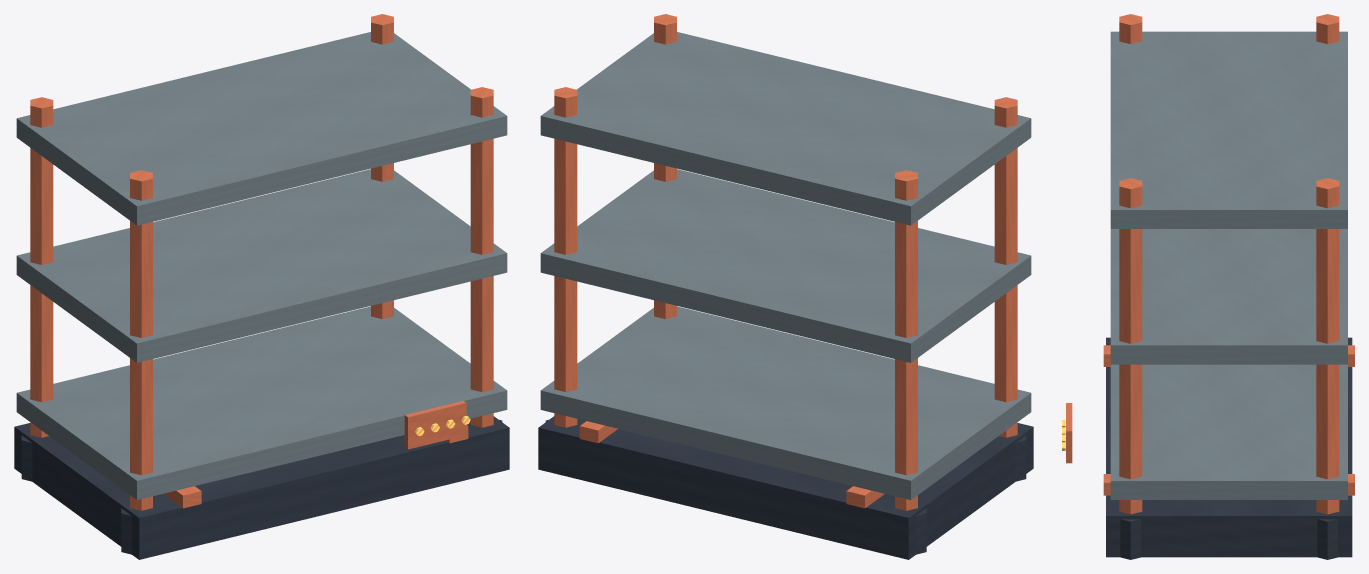
The model's file is atlas100-s025-a06.glb.
The picture shows the model from 3 angles, left to right: view 1: azimuth 30°, elevation 25°; view 2: azimuth 150°, elevation 25°; view 3: azimuth 270°, elevation 25°; orthographic projection.
Visible parts, largest first — view 1: atlas100-s025-a06:part-013, atlas100-s025-a06:part-012, atlas100-s025-a06:part-011, atlas100-s025-a06:part-000, atlas100-s025-a06:part-009, atlas100-s025-a06:part-005, atlas100-s025-a06:part-003, atlas100-s025-a06:part-014, atlas100-s025-a06:part-007; view 2: atlas100-s025-a06:part-013, atlas100-s025-a06:part-012, atlas100-s025-a06:part-011, atlas100-s025-a06:part-000, atlas100-s025-a06:part-007, atlas100-s025-a06:part-003, atlas100-s025-a06:part-005, atlas100-s025-a06:part-009; view 3: atlas100-s025-a06:part-013, atlas100-s025-a06:part-012, atlas100-s025-a06:part-011, atlas100-s025-a06:part-000, atlas100-s025-a06:part-007, atlas100-s025-a06:part-009, atlas100-s025-a06:part-008, atlas100-s025-a06:part-010, atlas100-s025-a06:part-003, atlas100-s025-a06:part-005, atlas100-s025-a06:part-014.
Boxes of the visible parts, bbox=[...] form: atlas100-s025-a06:part-013: bbox=[16, 32, 507, 225]; atlas100-s025-a06:part-012: bbox=[16, 169, 507, 362]; atlas100-s025-a06:part-011: bbox=[16, 306, 507, 499]; atlas100-s025-a06:part-000: bbox=[14, 416, 509, 559]; atlas100-s025-a06:part-009: bbox=[470, 87, 493, 427]; atlas100-s025-a06:part-005: bbox=[130, 170, 152, 510]; atlas100-s025-a06:part-003: bbox=[30, 97, 53, 437]; atlas100-s025-a06:part-014: bbox=[404, 400, 466, 449]; atlas100-s025-a06:part-007: bbox=[371, 14, 393, 318]; atlas100-s025-a06:part-013: bbox=[540, 32, 1031, 225]; atlas100-s025-a06:part-012: bbox=[540, 169, 1031, 362]; atlas100-s025-a06:part-011: bbox=[540, 306, 1031, 499]; atlas100-s025-a06:part-000: bbox=[538, 416, 1033, 559]; atlas100-s025-a06:part-007: bbox=[554, 87, 577, 427]; atlas100-s025-a06:part-003: bbox=[895, 170, 917, 510]; atlas100-s025-a06:part-005: bbox=[994, 97, 1017, 437]; atlas100-s025-a06:part-009: bbox=[654, 14, 676, 318]; atlas100-s025-a06:part-013: bbox=[1110, 31, 1347, 228]; atlas100-s025-a06:part-012: bbox=[1110, 229, 1347, 364]; atlas100-s025-a06:part-011: bbox=[1110, 364, 1347, 499]; atlas100-s025-a06:part-000: bbox=[1106, 337, 1352, 557]; atlas100-s025-a06:part-007: bbox=[1316, 178, 1339, 514]; atlas100-s025-a06:part-009: bbox=[1119, 178, 1142, 514]; atlas100-s025-a06:part-008: bbox=[1317, 519, 1337, 559]; atlas100-s025-a06:part-010: bbox=[1120, 519, 1140, 559]; atlas100-s025-a06:part-003: bbox=[1316, 14, 1339, 44]; atlas100-s025-a06:part-005: bbox=[1119, 14, 1142, 44]; atlas100-s025-a06:part-014: bbox=[1066, 403, 1072, 463].
Bounding box in the file's own units: 2.47 × 2.3 × 1.66.
Materials: 4 (4 with a texture image).
